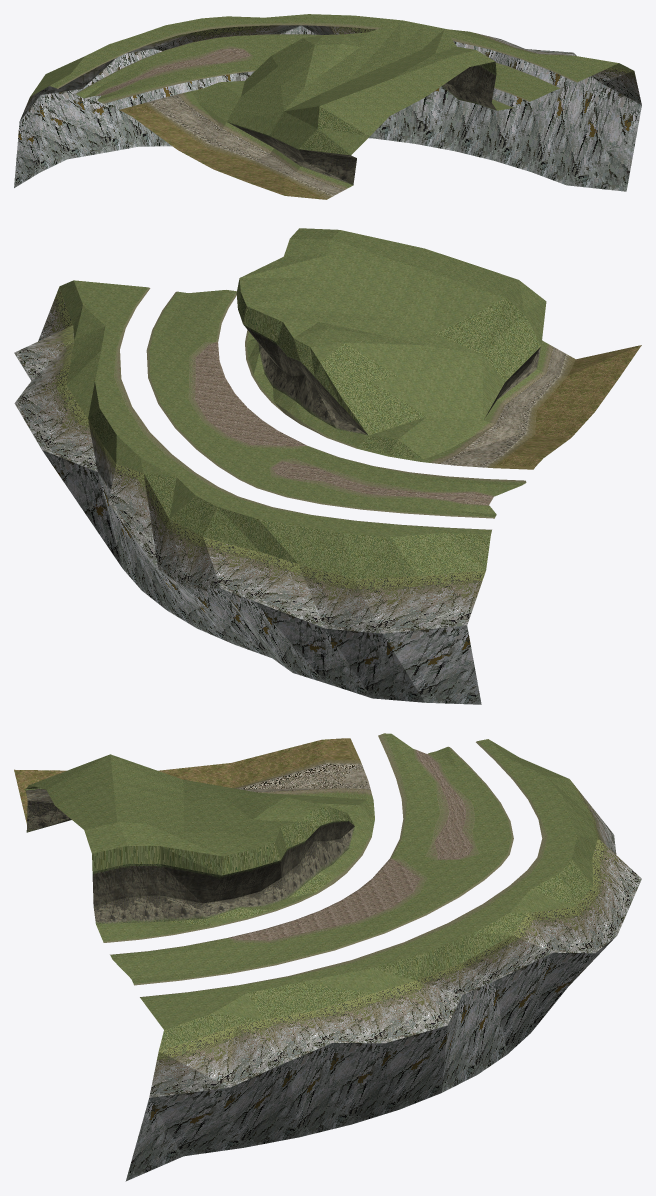
File: lodcuntw56.obj
3 renders of one model, top to bottom at view 1: azimuth 30°, elevation 25°; view 2: azimuth 150°, elevation 25°; view 3: azimuth 270°, elevation 25°, orthographic. The views are drawn at different scales.
Parts seen in each view (by area): view 1: lodcuntw56; view 2: lodcuntw56; view 3: lodcuntw56.
Part boxes in pixels (<box>): lodcuntw56: <box>14,14,641,199</box>; lodcuntw56: <box>14,228,641,704</box>; lodcuntw56: <box>14,733,641,1181</box>.
Size of the model in its own units: 317 by 114 by 268.
11 materials, 11 textured.
